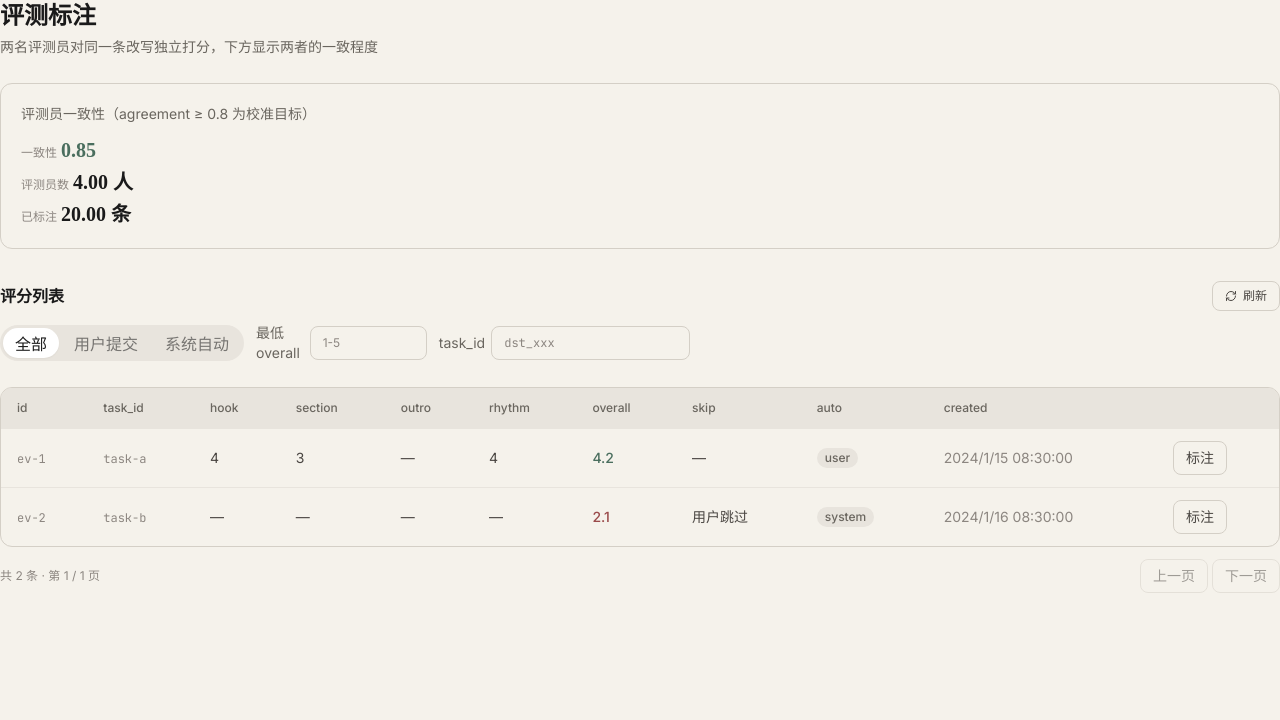
Test: Evaluations › 点击"标注" → 打开 AnnotateDialog
Expected: the text "ev-1" is shown, [17,451,46,467]
Click the button "标注" in the row of "ev-1": (1200, 458) [1173,441,1227,475]
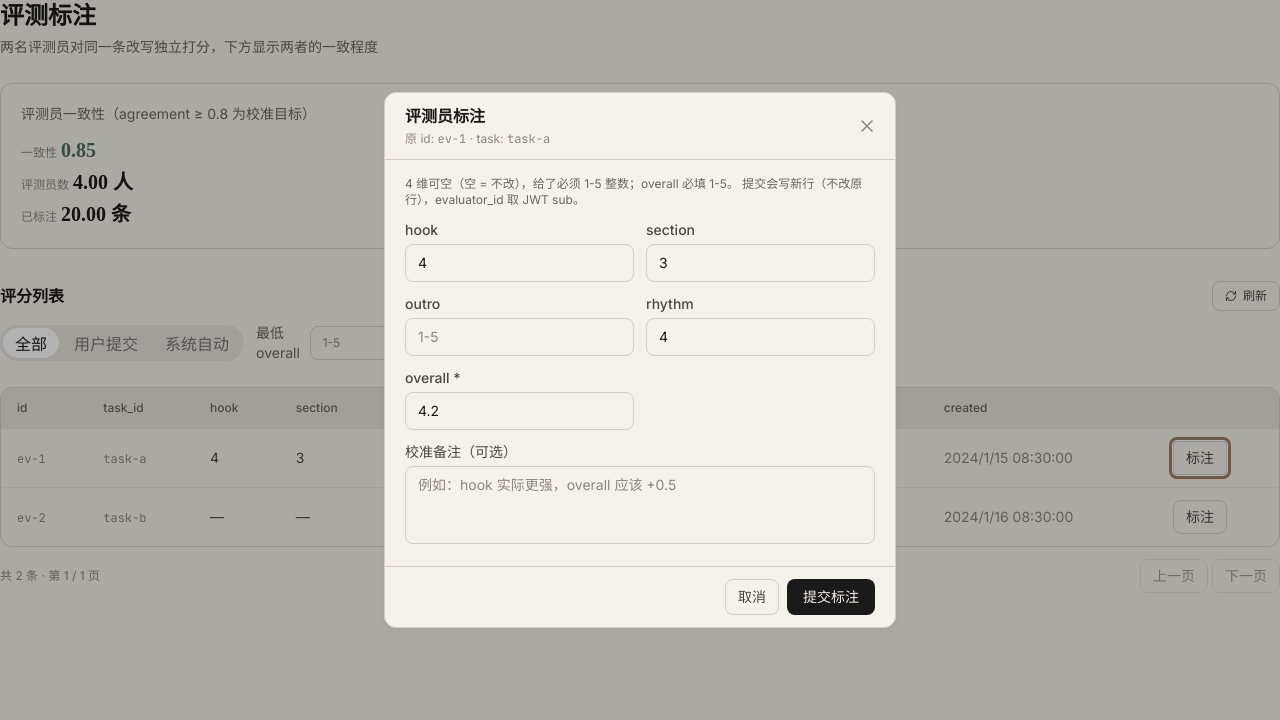
Now the heading "评测员标注" is shown, box [405,108,485,125]
Now the text "原 id: ev-1 · task: task-a" is shown, box [405,131,550,147]
